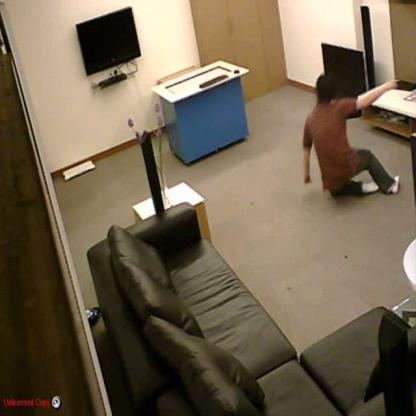Person: (302, 74, 401, 195)
